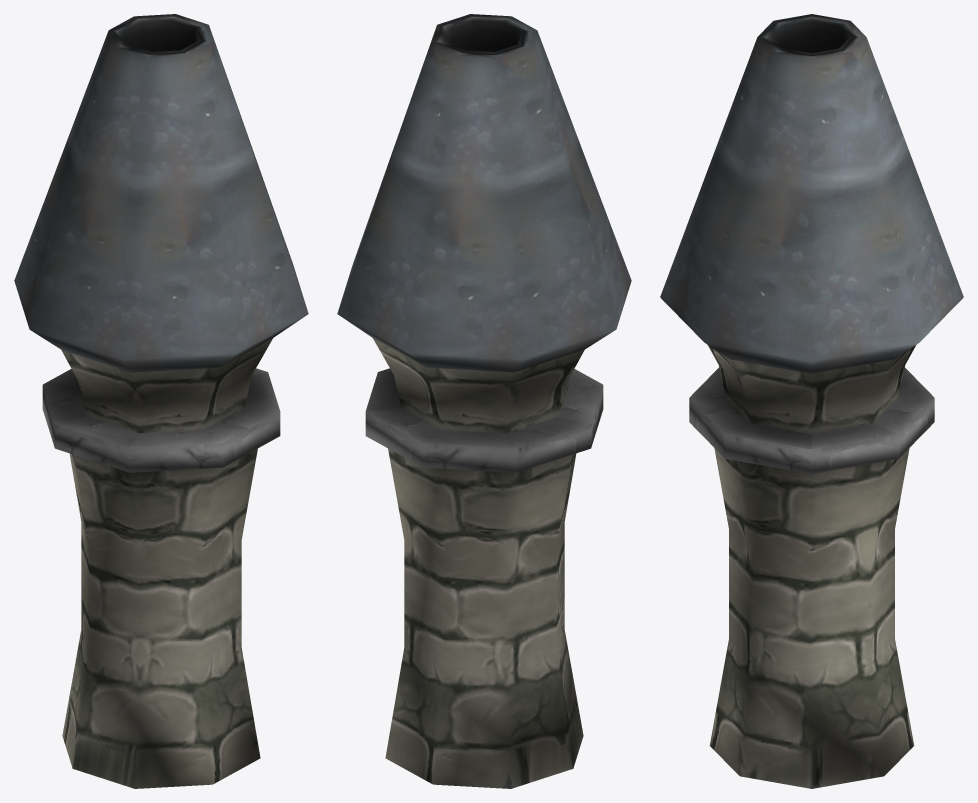
Rendered from Chimney.fbx.
The picture shows the model from 3 angles, left to right: view 1: azimuth 30°, elevation 25°; view 2: azimuth 150°, elevation 25°; view 3: azimuth 270°, elevation 25°; orthographic projection.
Parts seen in each view (by area): view 1: Cylinder_018; view 2: Cylinder_018; view 3: Cylinder_018.
Part boxes in pixels (bbox=[...]): Cylinder_018: bbox=[14, 14, 308, 788]; Cylinder_018: bbox=[337, 14, 631, 788]; Cylinder_018: bbox=[660, 14, 963, 788].
Bounding box in the file's own units: 2.97 × 7.65 × 2.97.
